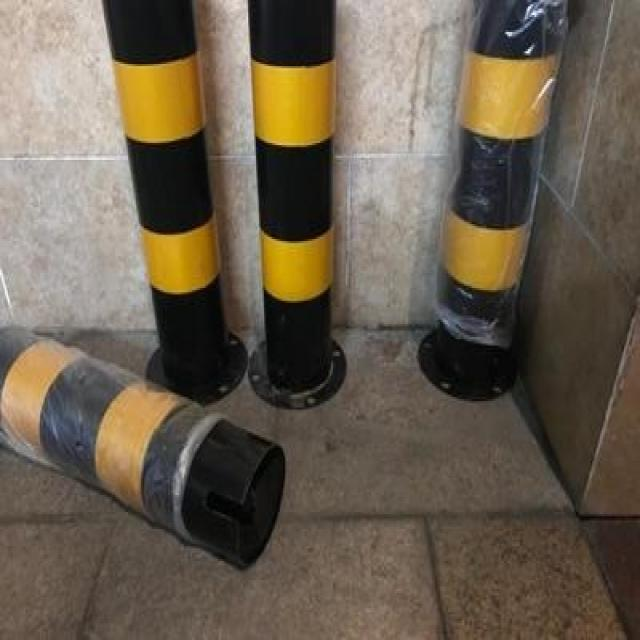warning_column: (2, 324, 283, 566), (410, 0, 560, 403), (101, 0, 248, 403), (243, 0, 348, 407)
